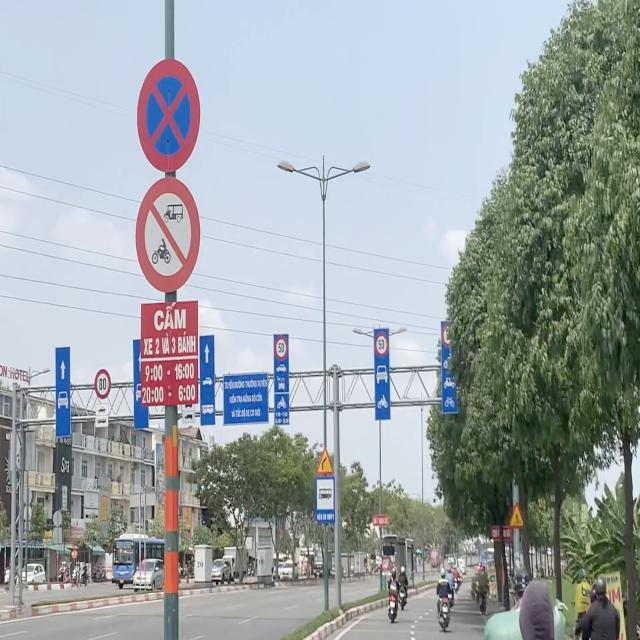Ben xe buyt: (314, 476, 336, 525)
Cam con lai: (135, 178, 201, 294)
Cam dung va do: (134, 54, 205, 178)
Nguoi di bo cat ngang: (508, 499, 526, 530)
Nguy hiem: (316, 445, 335, 477)
Toc do toi da: (93, 369, 110, 399), (375, 332, 388, 357), (274, 336, 288, 359), (442, 324, 452, 347)
